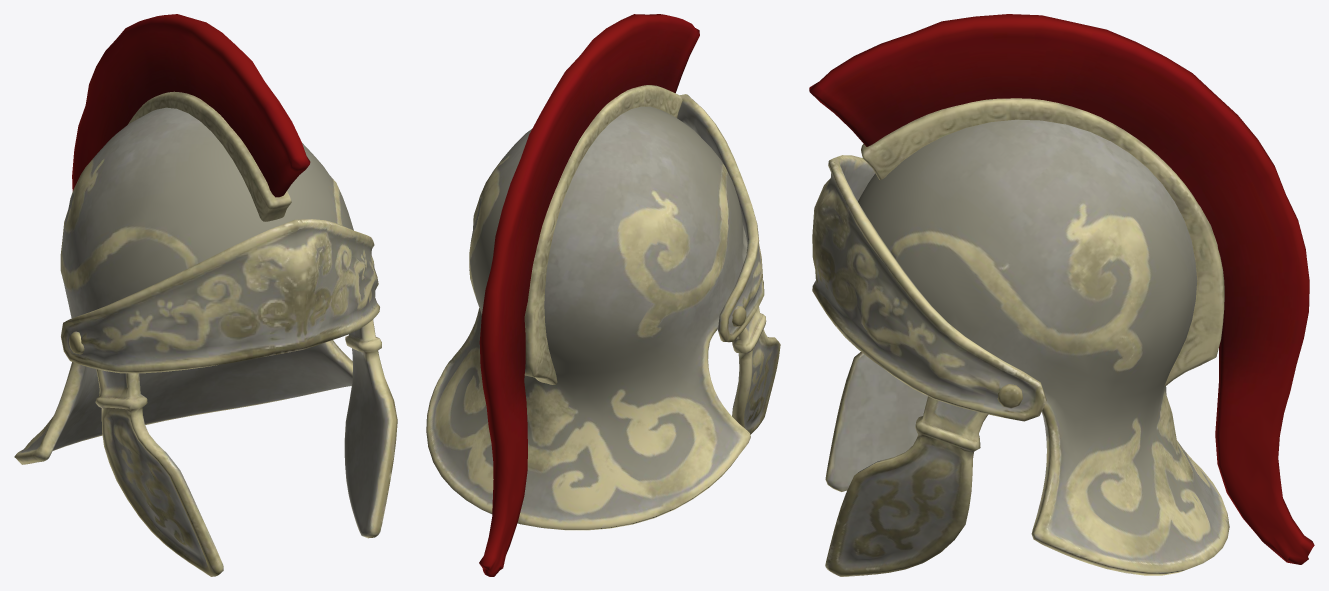
Rendered from elmo_base.fbx.
3 renders of one model, left to right at view 1: azimuth 30°, elevation 25°; view 2: azimuth 150°, elevation 25°; view 3: azimuth 270°, elevation 25°, orthographic. The views are drawn at different scales.
Visible parts, largest first — view 1: Casque_low, Visiere_low, Crin_low, Barre_low; view 2: Casque_low, Crin_low, Barre_low, Visiere_low; view 3: Casque_low, Crin_low, Visiere_low, Barre_low.
Part boxes in pixels (left/top/right/bottom): Casque_low: left=14, top=107, right=397, bottom=576; Visiere_low: left=61, top=219, right=379, bottom=373; Crin_low: left=72, top=14, right=310, bottom=197; Barre_low: left=128, top=91, right=291, bottom=221; Casque_low: left=426, top=106, right=780, bottom=530; Crin_low: left=479, top=14, right=699, bottom=576; Barre_low: left=524, top=85, right=682, bottom=384; Visiere_low: left=469, top=94, right=764, bottom=342; Casque_low: left=825, top=119, right=1229, bottom=576; Crin_low: left=809, top=14, right=1314, bottom=564; Visiere_low: left=812, top=155, right=1046, bottom=421; Barre_low: left=861, top=98, right=1224, bottom=386.
Size of the model in its own units: 1665053 by 2400000 by 2012926.
Materials: 1 (1 with a texture image).
